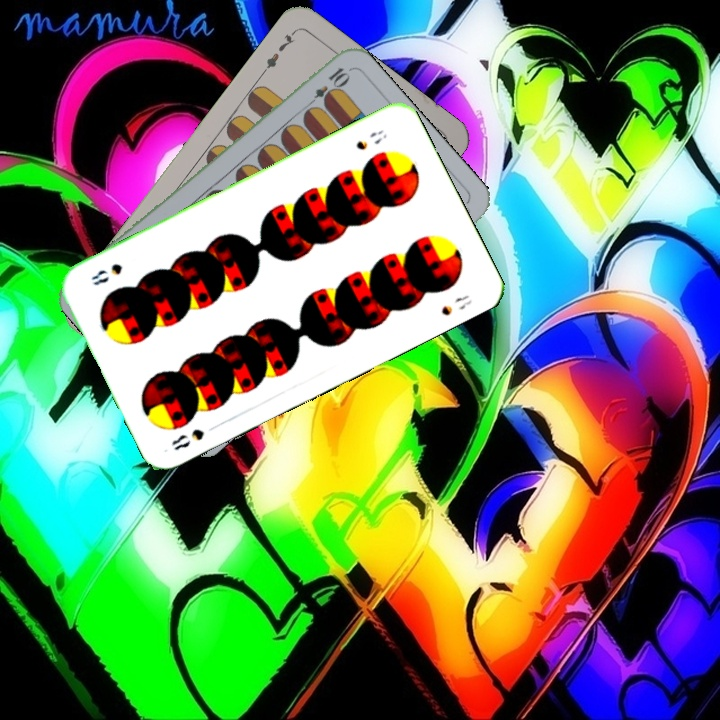E10: (302, 63, 352, 112)
E7: (257, 27, 299, 77)
S8: (167, 424, 207, 453), (352, 126, 390, 153)
